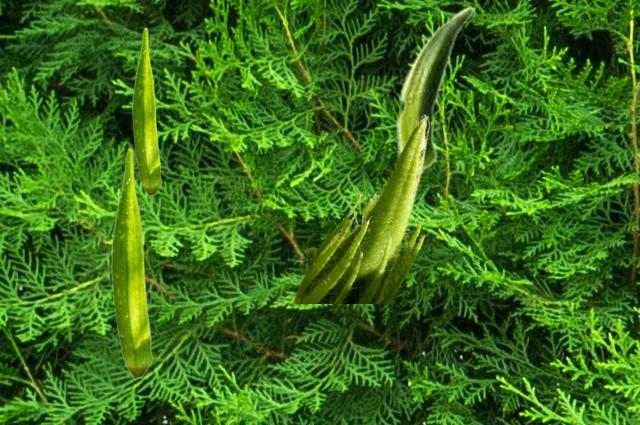okra: (291, 113, 432, 302), (395, 6, 473, 174), (111, 147, 152, 378), (132, 27, 161, 195)
